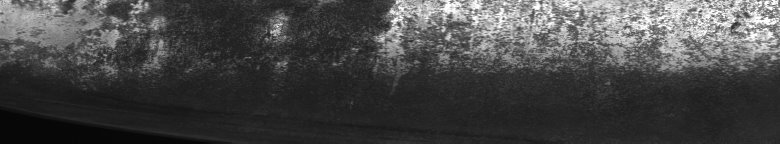kb: (63, 0, 776, 144)
